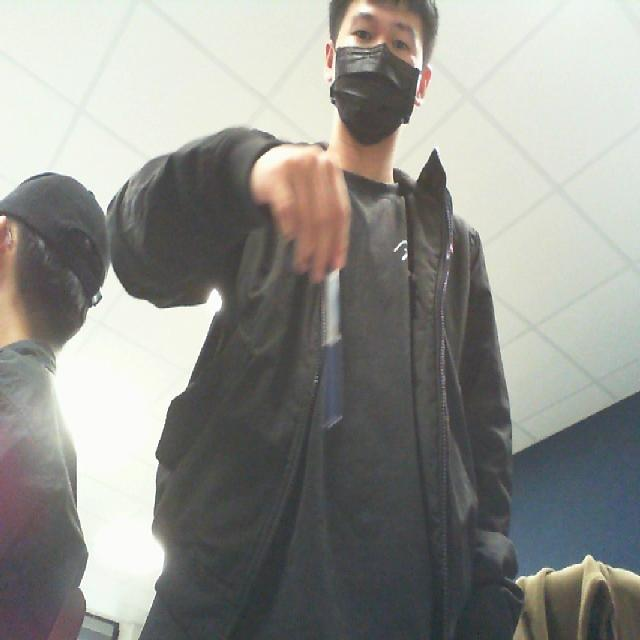Pen: (308, 267, 361, 443)
